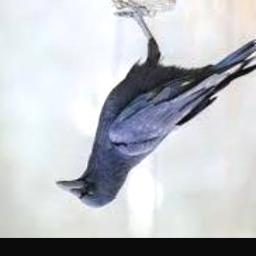Crow: (56, 0, 256, 208)
